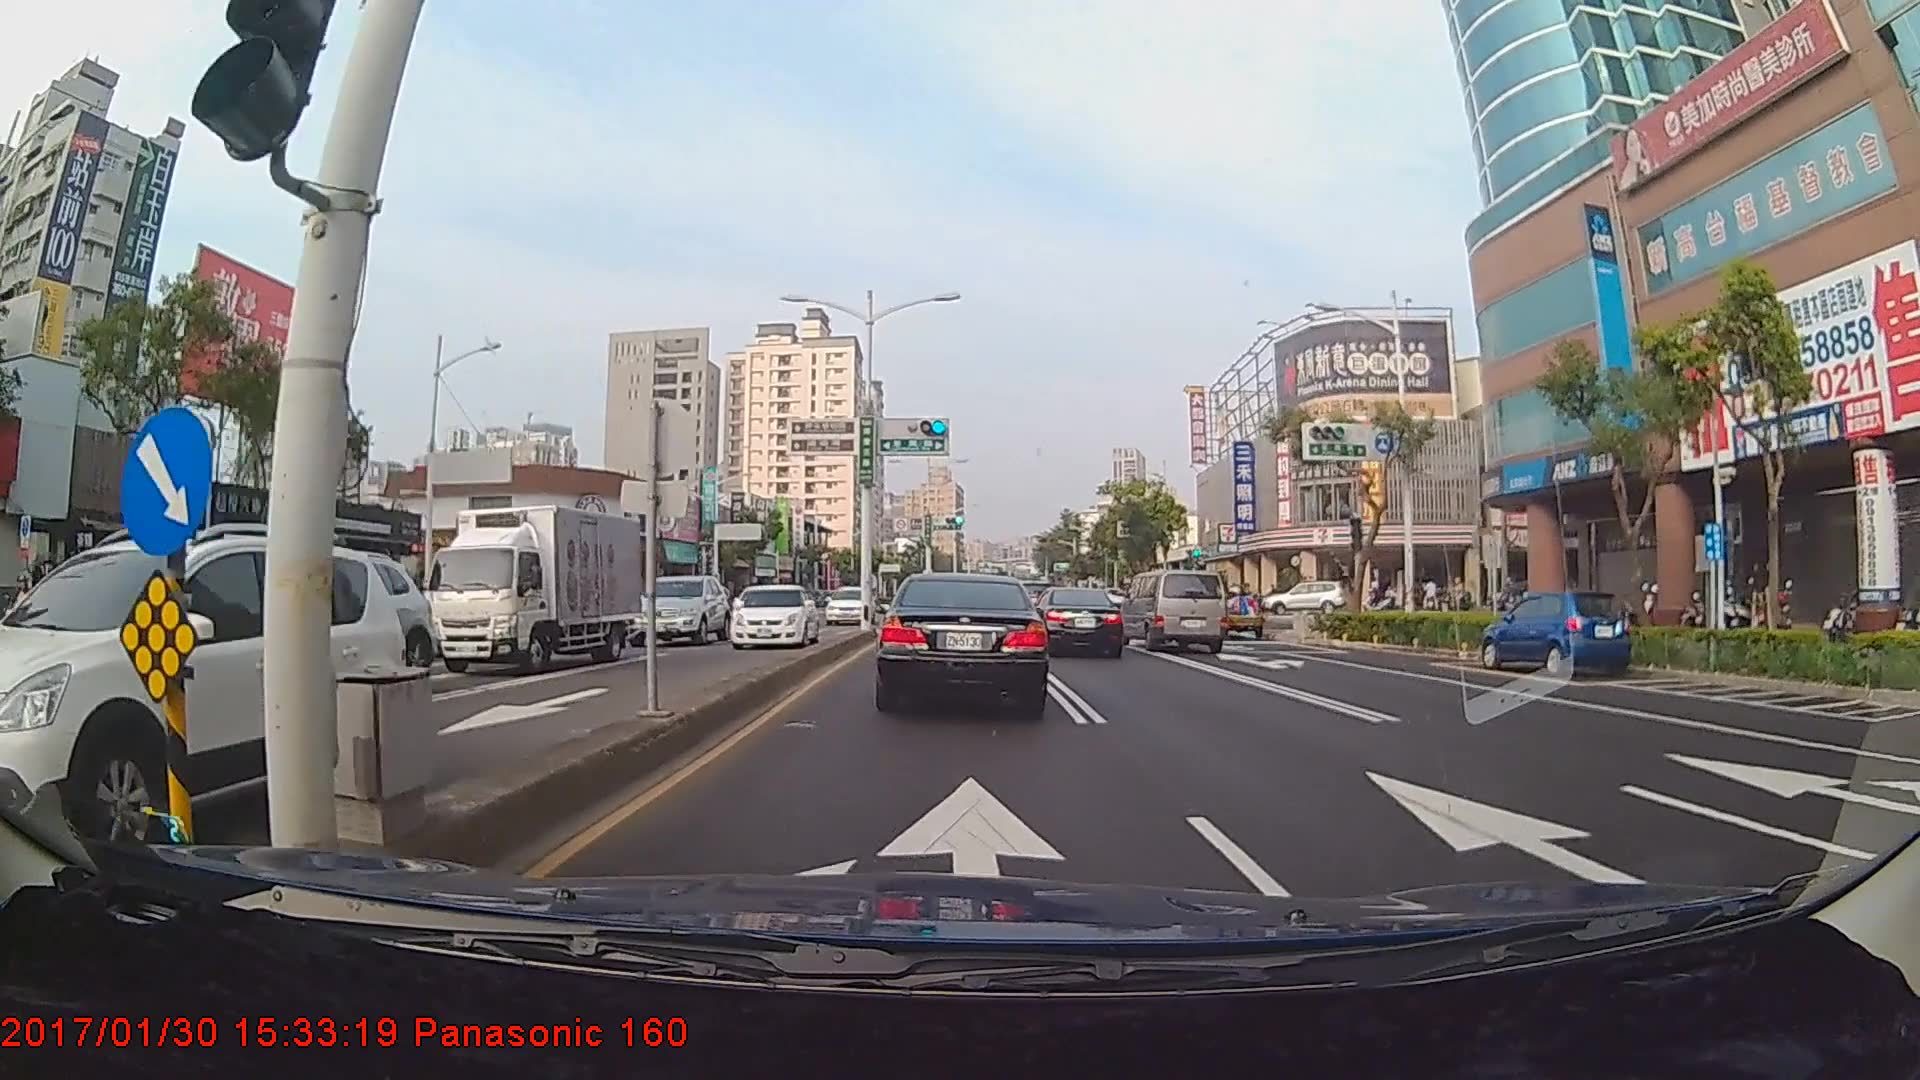vehicle: (0, 530, 409, 862), (418, 497, 644, 674), (228, 545, 434, 691), (880, 568, 1048, 713), (1480, 589, 1630, 675), (1121, 568, 1228, 654), (617, 567, 724, 644), (720, 578, 816, 647), (1033, 588, 1125, 657), (1265, 582, 1344, 615), (822, 580, 869, 622)
